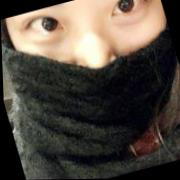WRONG: (6, 1, 180, 163)
